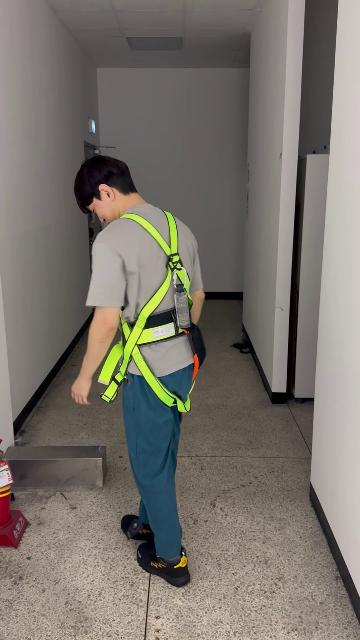helmet_not_worn: (74, 157, 140, 212)
shoe_worn: (137, 543, 190, 587), (120, 514, 153, 541)
vest_worn: (99, 215, 199, 408)
